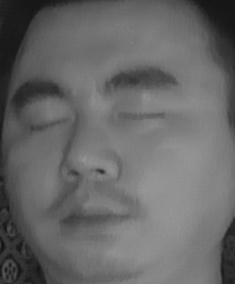blink: (121, 100, 163, 136), (24, 106, 68, 137)
mouth: (56, 187, 132, 237)
